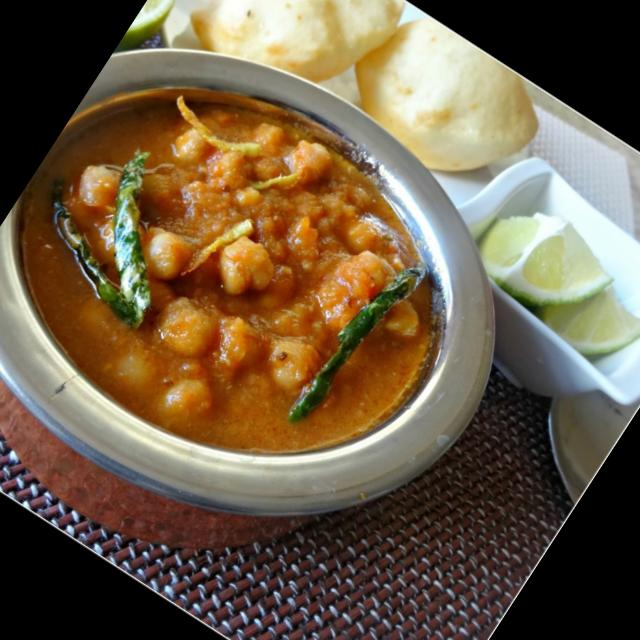Bhatura: (329, 0, 556, 205), (179, 0, 409, 129)
Chole: (0, 20, 491, 529)
